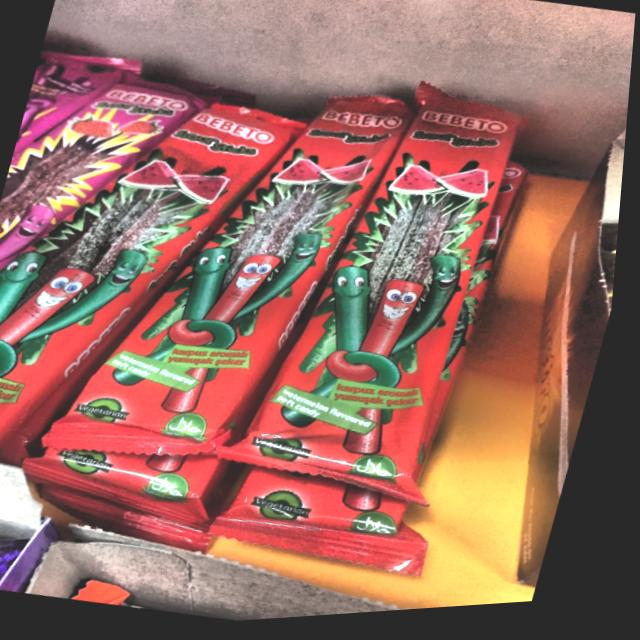Plastic: (0, 56, 333, 512), (93, 48, 362, 536), (285, 76, 551, 567)
